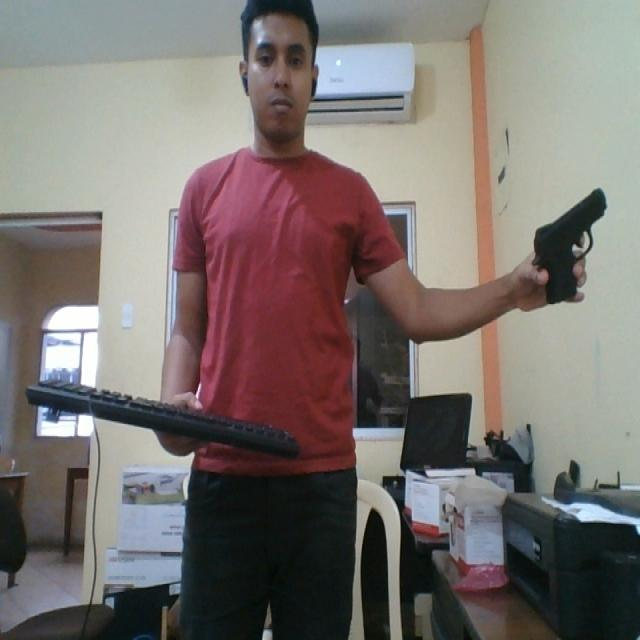weapon: (531, 188, 610, 307)
